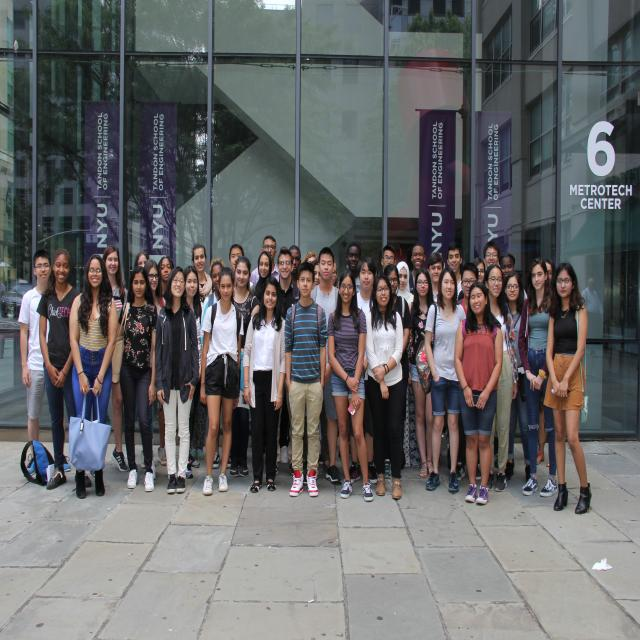body: (35, 246, 93, 492), (542, 261, 595, 517), (67, 252, 120, 501), (17, 248, 73, 478), (451, 280, 505, 508), (326, 269, 376, 502), (153, 264, 201, 496), (282, 259, 328, 499), (112, 265, 160, 493), (517, 256, 562, 499), (198, 266, 245, 497), (361, 271, 408, 501), (422, 266, 468, 496), (242, 274, 289, 494), (584, 259, 635, 438), (494, 271, 536, 487), (482, 263, 519, 492), (310, 246, 343, 486), (344, 256, 378, 484), (523, 256, 559, 471), (229, 255, 261, 478), (199, 257, 232, 470), (382, 263, 412, 482), (101, 244, 129, 474), (273, 245, 300, 480), (407, 267, 434, 478), (454, 261, 479, 483), (142, 258, 168, 470), (313, 259, 339, 466), (182, 266, 205, 479), (190, 243, 212, 461), (0, 242, 19, 425), (249, 234, 280, 290), (498, 252, 528, 300), (457, 257, 489, 301), (229, 242, 255, 295), (336, 242, 362, 294), (406, 243, 426, 299), (395, 260, 414, 316), (156, 255, 176, 308), (254, 250, 272, 305), (156, 256, 175, 308), (426, 252, 444, 303), (446, 243, 462, 300), (483, 240, 501, 272), (288, 245, 302, 285), (381, 245, 397, 273), (133, 250, 151, 271), (311, 259, 321, 287)
